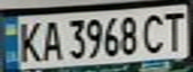3: (63, 16, 84, 60)
6: (103, 14, 124, 57)
8: (118, 12, 142, 57)
9: (81, 15, 106, 60)
A: (36, 17, 63, 62)
C: (139, 10, 169, 54)
K: (12, 18, 45, 63)
T: (160, 8, 190, 53)
